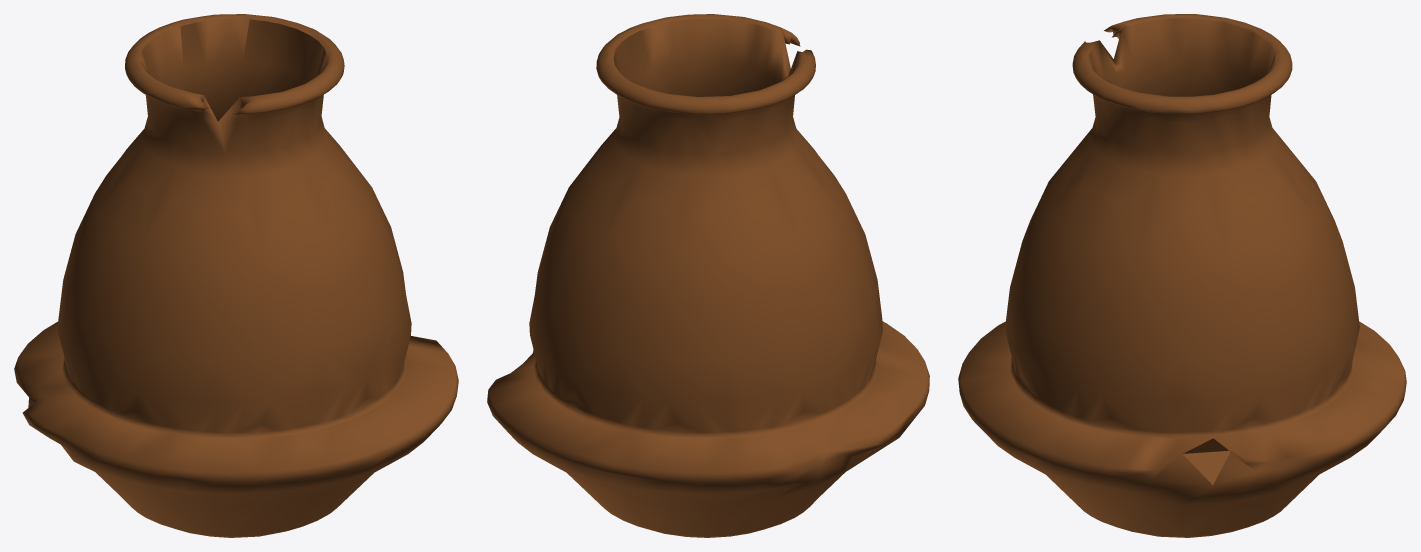
The model's file is Urn_Two_1128.fbx.
3 views of the same model, side by side, from view 1: azimuth 30°, elevation 25°; view 2: azimuth 150°, elevation 25°; view 3: azimuth 270°, elevation 25° (orthographic).
Parts seen in each view (by area): view 1: Urn_Two; view 2: Urn_Two; view 3: Urn_Two.
Part boxes in pixels (<box>): Urn_Two: <box>14,14,458,537</box>; Urn_Two: <box>487,14,929,537</box>; Urn_Two: <box>958,14,1406,537</box>.
Size of the model in its own units: 694 by 781 by 703.
